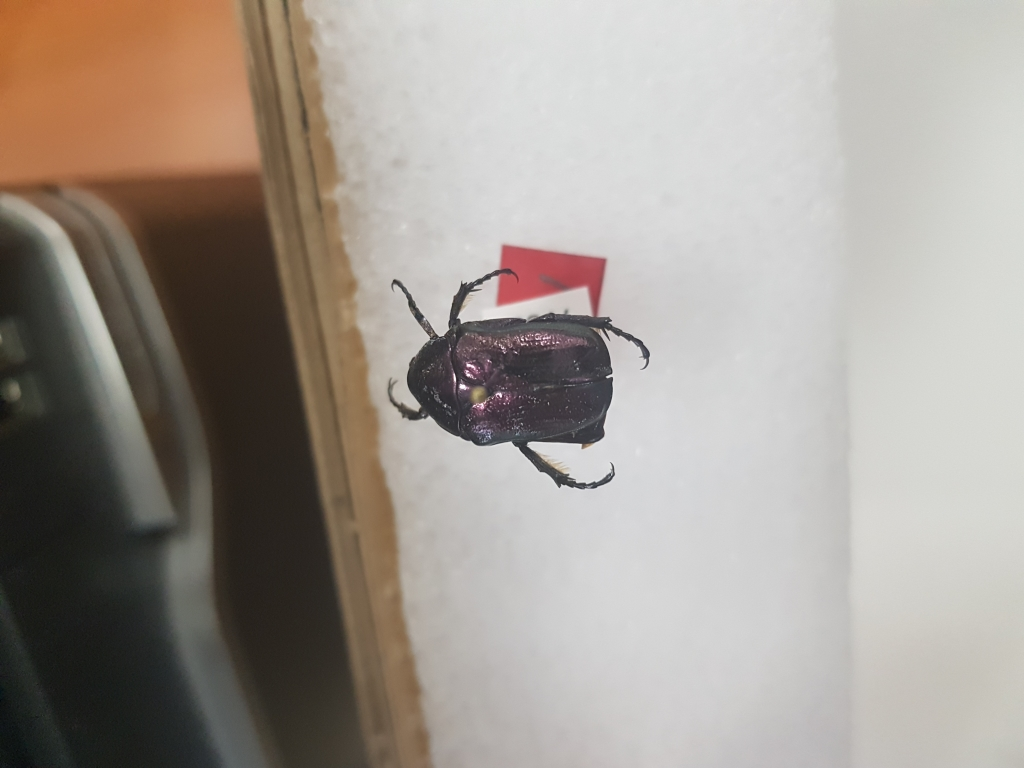Protaetia_besucheti: (375, 261, 651, 500)
